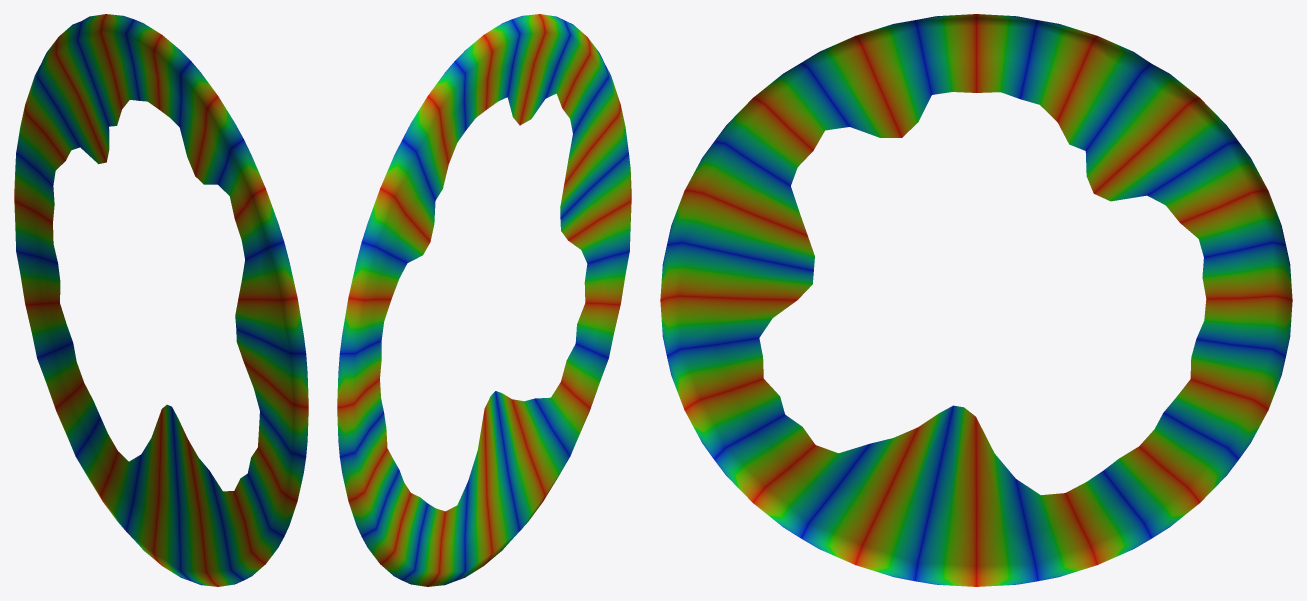
Rendered from warp.fbx.
3 views of the same model, side by side, from view 1: azimuth 30°, elevation 25°; view 2: azimuth 150°, elevation 25°; view 3: azimuth 270°, elevation 25° (orthographic). The views are drawn at different scales.
Visible parts, largest first — view 1: Warp; view 2: Warp; view 3: Warp.
Boxes of the visible parts, left/top/right/bottom form: Warp: left=14, top=14, right=308, bottom=586; Warp: left=337, top=14, right=631, bottom=586; Warp: left=660, top=14, right=1292, bottom=586.
Size of the model in its own units: 18.77 by 1028 by 1028.
